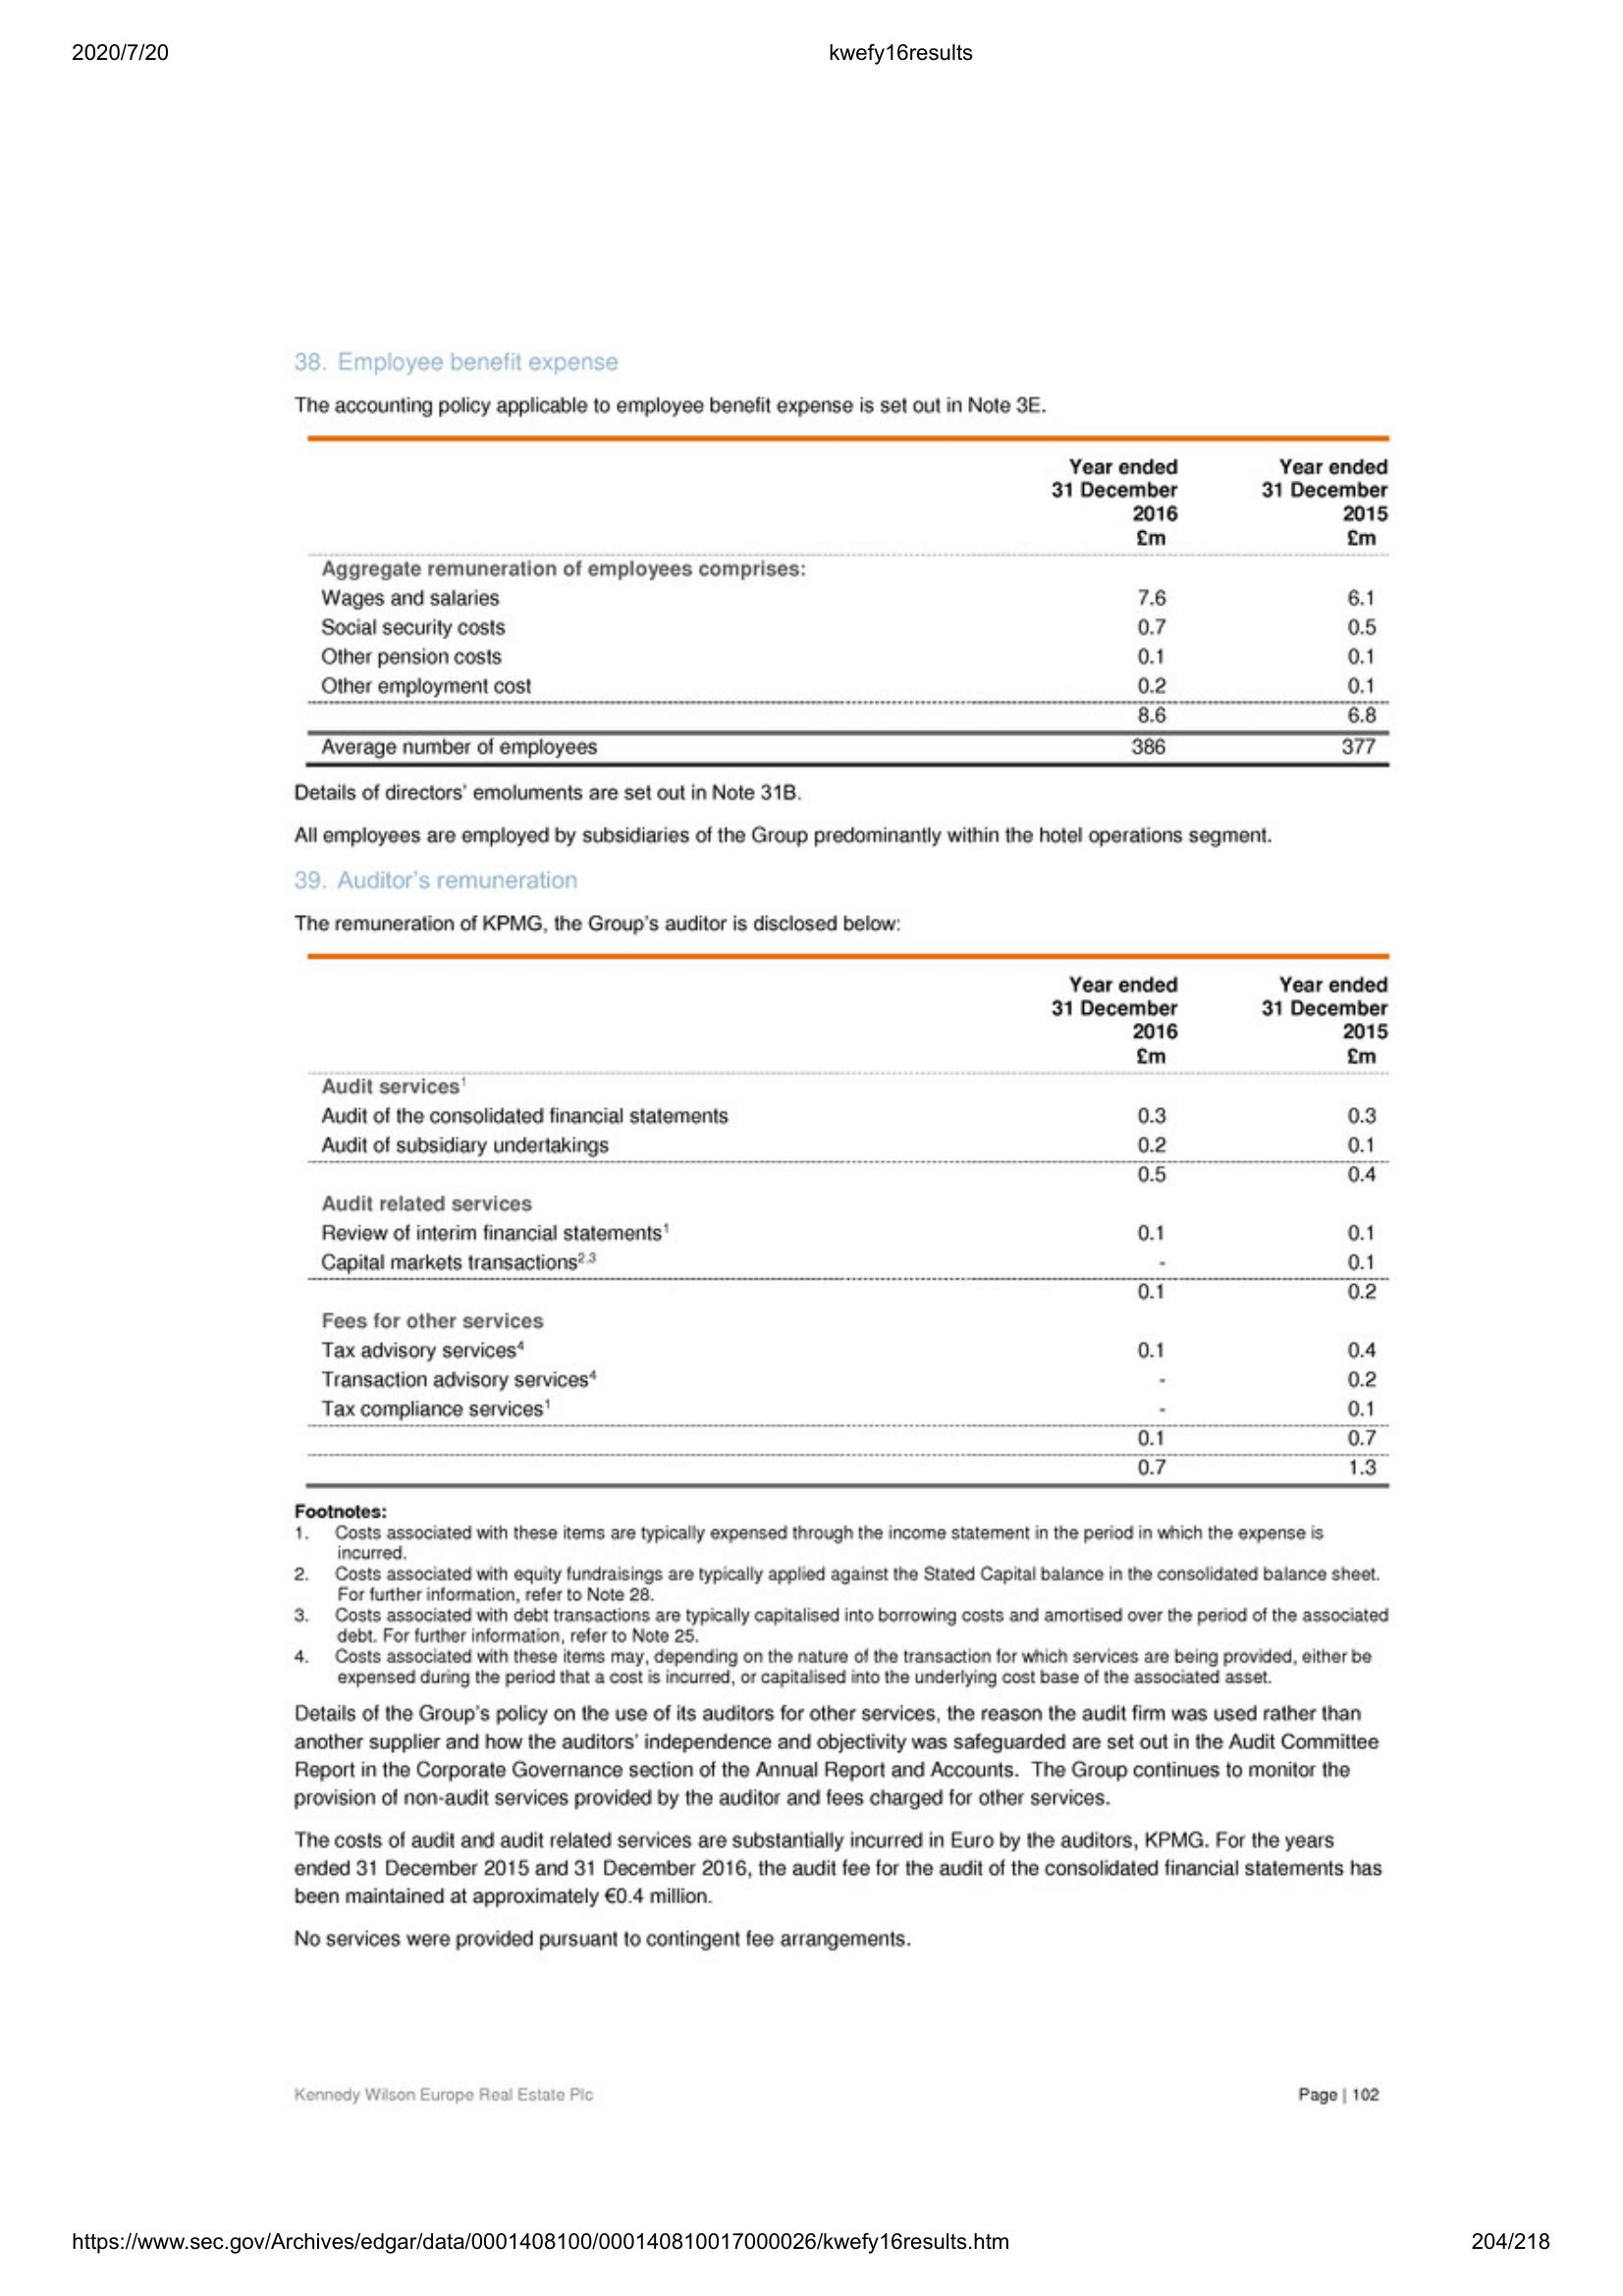table: (295, 946, 1400, 1499), (299, 428, 1396, 776)
